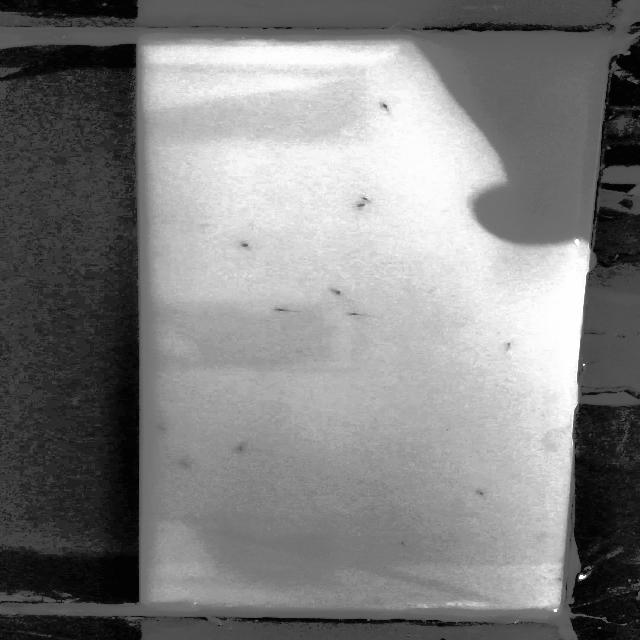shrimp: (343, 310, 379, 321), (235, 242, 258, 254), (176, 457, 197, 470), (376, 101, 396, 114), (275, 306, 302, 315), (234, 443, 252, 455), (396, 539, 415, 550), (355, 196, 379, 204), (350, 202, 370, 210), (150, 423, 168, 431), (330, 288, 348, 296), (474, 489, 489, 498), (505, 341, 517, 351)
